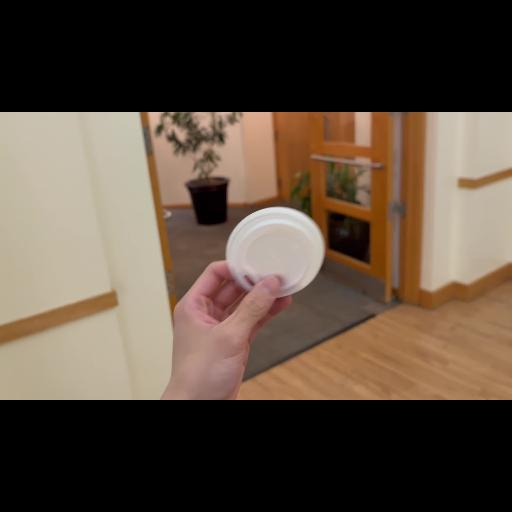lp_cup_lids: (219, 204, 335, 298)
